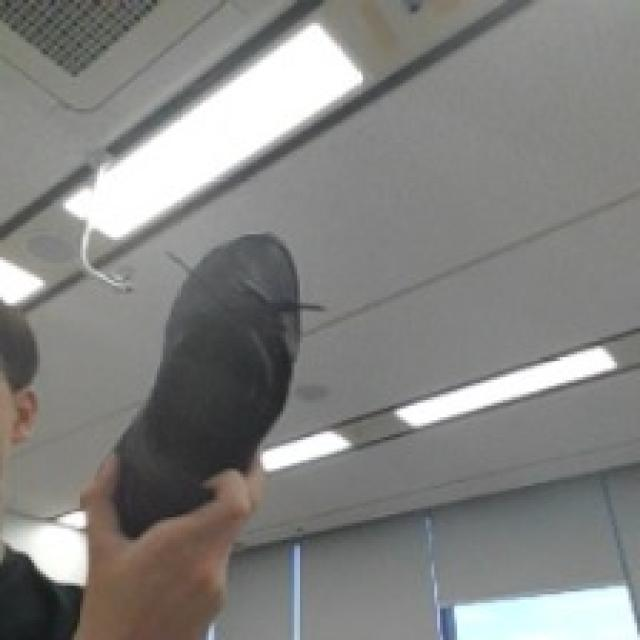shoe: (90, 221, 352, 548)
